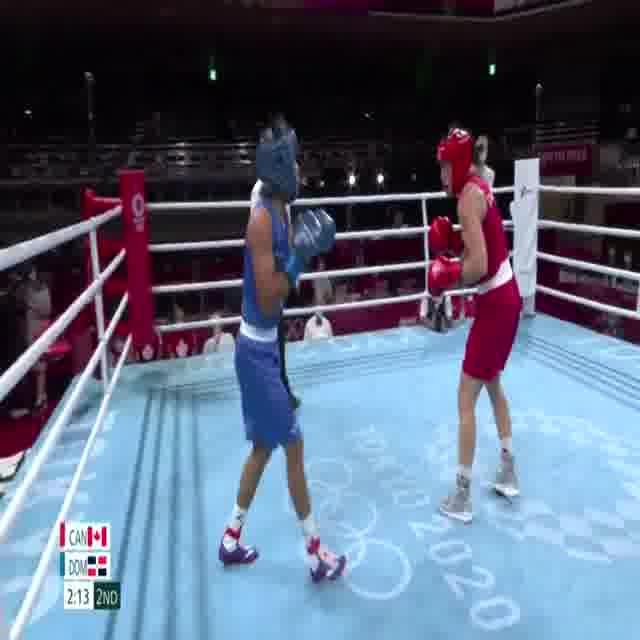blue-player: (216, 122, 350, 590)
red-player: (420, 129, 527, 527)
referee: (243, 124, 303, 424)
